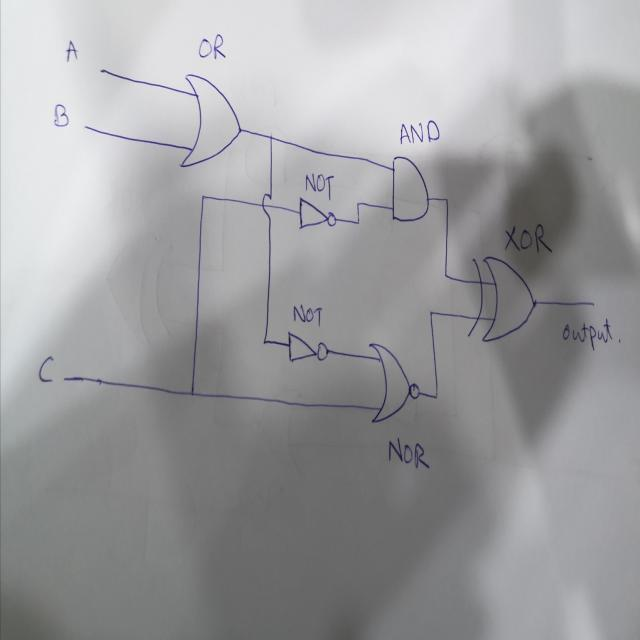crossover: (260, 188, 272, 218)
junction: (187, 383, 196, 401), (441, 266, 450, 282), (267, 128, 275, 144), (427, 306, 435, 320), (442, 193, 451, 205), (261, 334, 268, 348), (433, 389, 440, 402), (200, 190, 206, 202), (356, 200, 360, 208), (356, 218, 360, 226)
terminal: (586, 296, 597, 310), (81, 119, 90, 135), (97, 63, 106, 78), (62, 372, 69, 384)
text: (499, 219, 553, 255), (562, 317, 614, 352), (387, 435, 430, 474), (399, 119, 441, 146), (304, 170, 335, 202), (291, 301, 323, 330), (197, 31, 226, 62), (51, 98, 70, 130), (36, 352, 54, 385), (62, 34, 80, 66)
